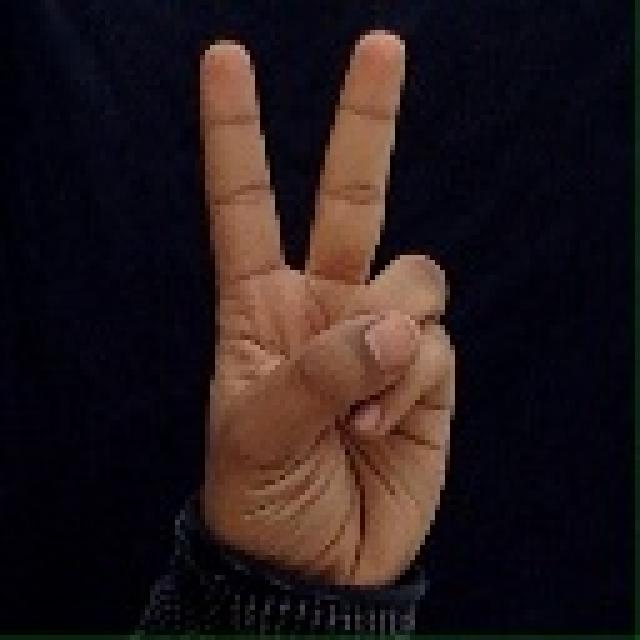Two: (142, 20, 510, 578)
